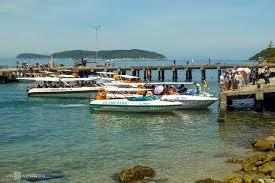Ship: (91, 83, 184, 113), (147, 84, 219, 110), (28, 78, 104, 98)
